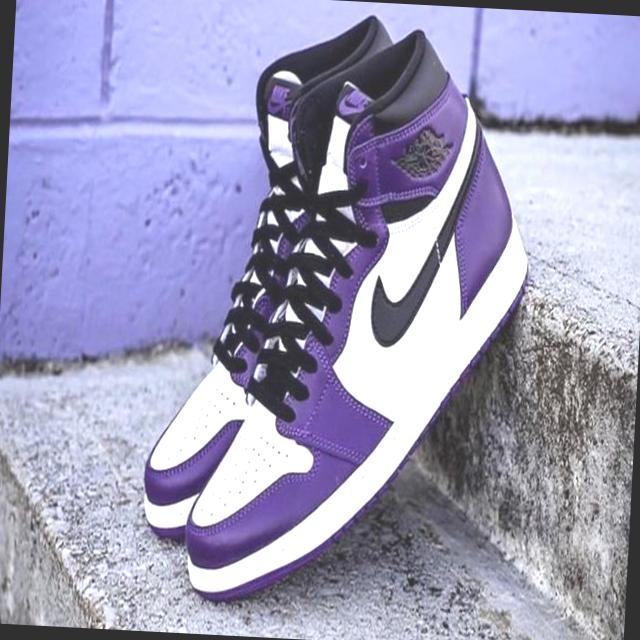nike_original_jordan: (182, 18, 543, 616), (140, 3, 403, 550)
